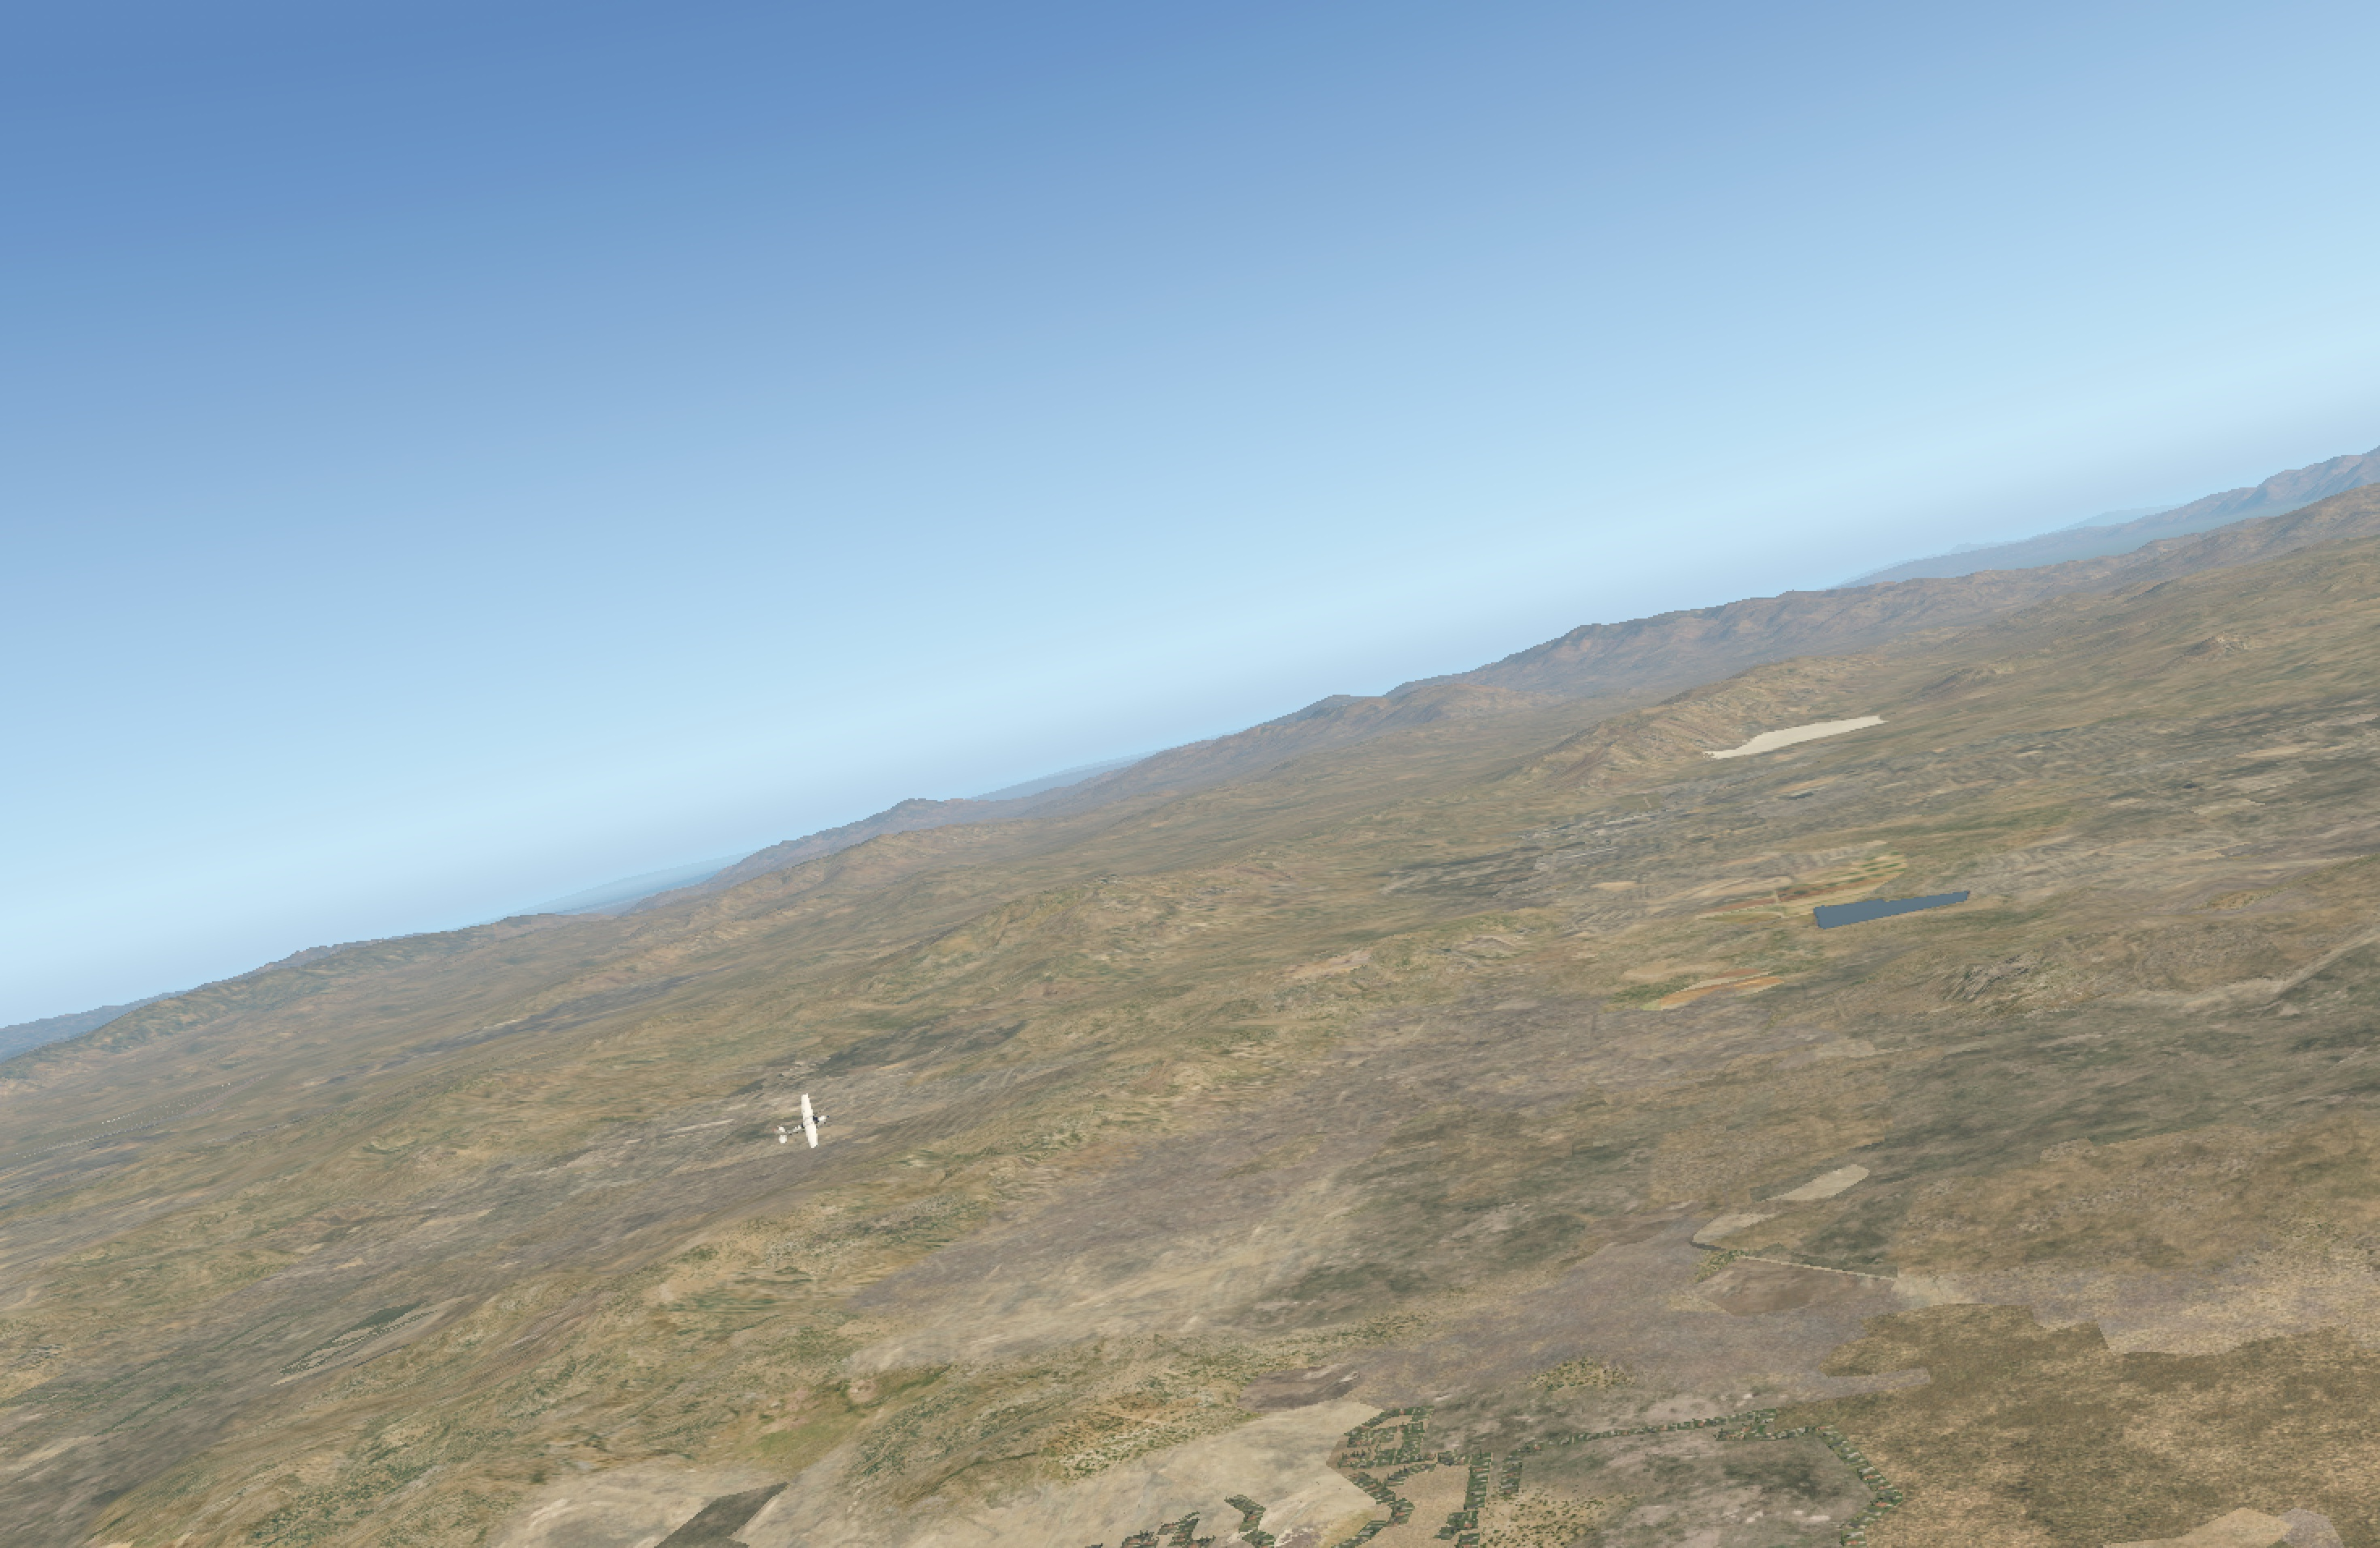aircraft: (786, 1112, 840, 1133)
